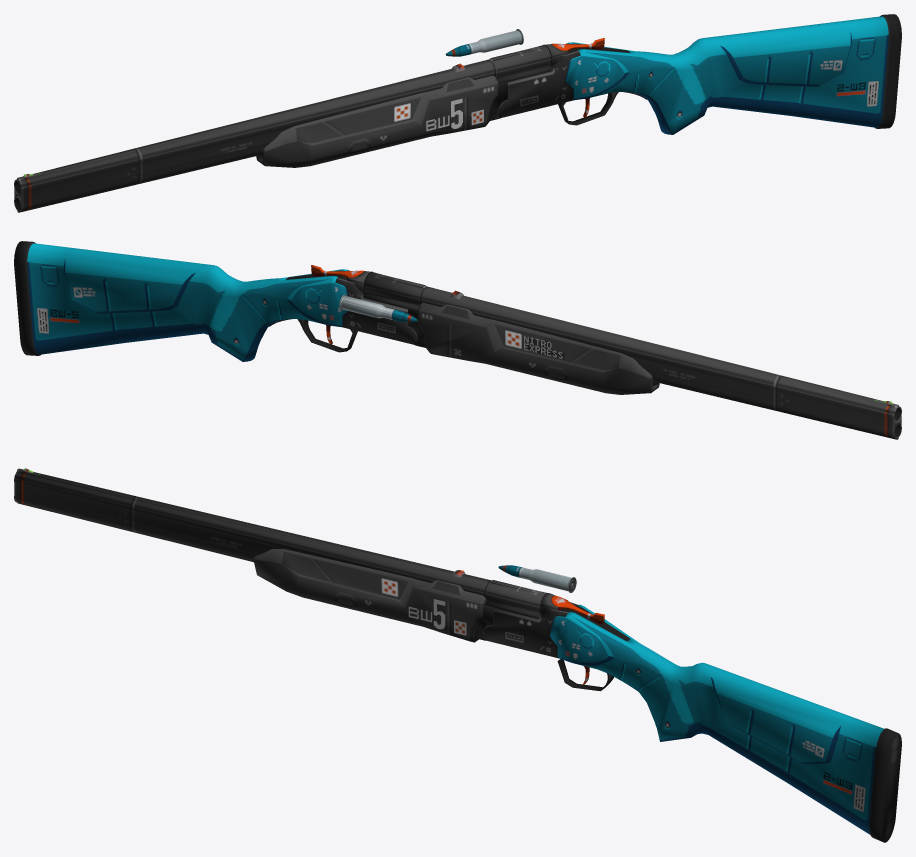
File: RifleScaled.fbx
The picture shows the model from 3 angles, top to bottom: view 1: azimuth 30°, elevation 25°; view 2: azimuth 150°, elevation 25°; view 3: azimuth 330°, elevation 25°; orthographic projection.
Visible parts, largest first — view 1: reciver_low, barrel_low, pump_low, BulletNitro, pump_low_Labels, detal1_low; view 2: reciver_low, barrel_low, pump_low, BulletNitro, pump_low_Labels, detal1_low; view 3: reciver_low, barrel_low, pump_low, BulletNitro, pump_low_Labels.
Boxes of the visible parts, bbox=[...] form: reciver_low: bbox=[498, 14, 901, 134]; barrel_low: bbox=[14, 45, 552, 212]; pump_low: bbox=[256, 75, 498, 167]; BulletNitro: bbox=[445, 29, 523, 56]; pump_low_Labels: bbox=[426, 98, 483, 131]; detal1_low: bbox=[558, 91, 646, 125]; reciver_low: bbox=[14, 241, 417, 361]; barrel_low: bbox=[363, 272, 901, 439]; pump_low: bbox=[417, 302, 659, 394]; BulletNitro: bbox=[339, 294, 417, 322]; pump_low_Labels: bbox=[523, 335, 564, 359]; detal1_low: bbox=[269, 318, 357, 352]; reciver_low: bbox=[483, 593, 901, 842]; barrel_low: bbox=[14, 468, 547, 618]; pump_low: bbox=[253, 548, 486, 642]; BulletNitro: bbox=[498, 565, 576, 592]; pump_low_Labels: bbox=[408, 599, 466, 635].
Bounding box in the file's own units: 0.9179 × 0.1663 × 0.0721.
Materials: 2 (2 with a texture image).
